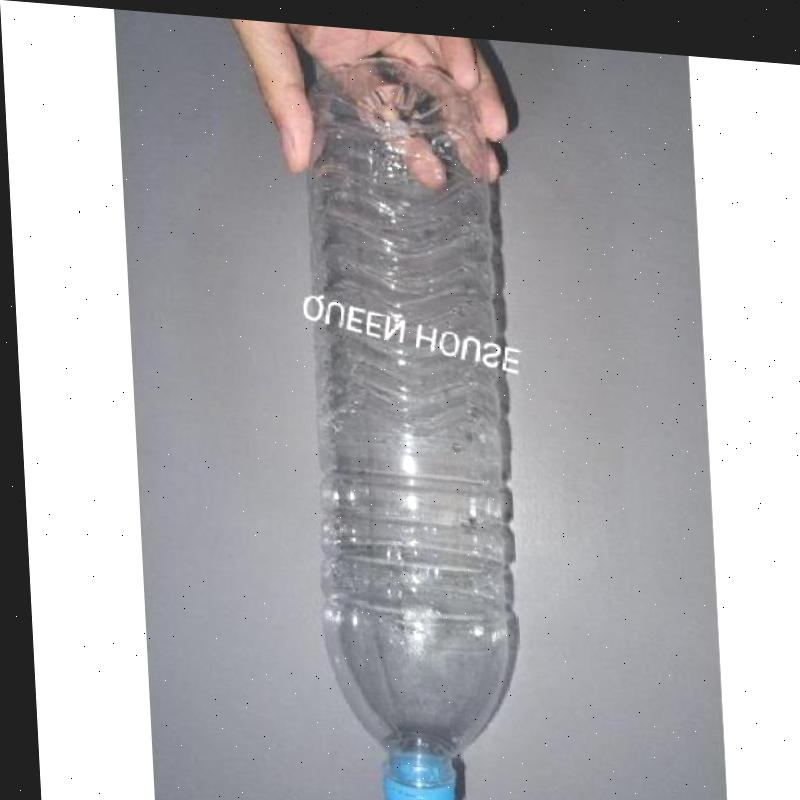botella: (290, 42, 519, 800)
